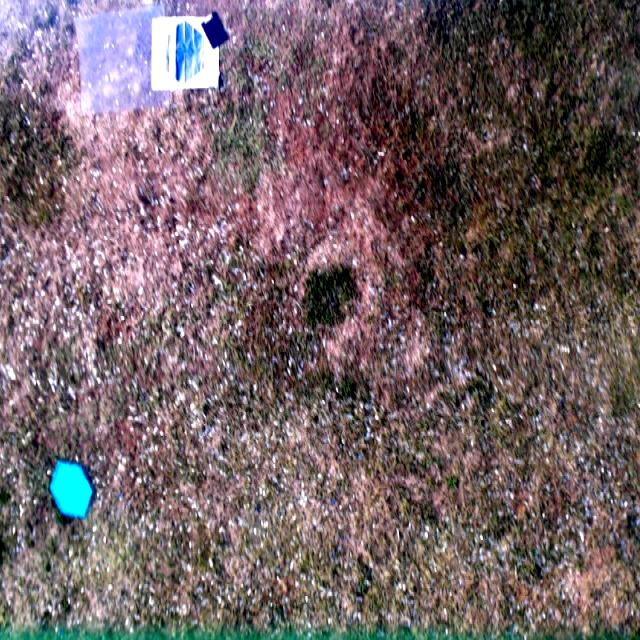blue_hexagon: (49, 457, 96, 518)
